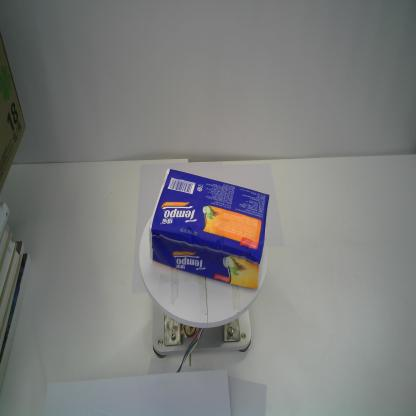Tissue: (147, 167, 272, 292)
